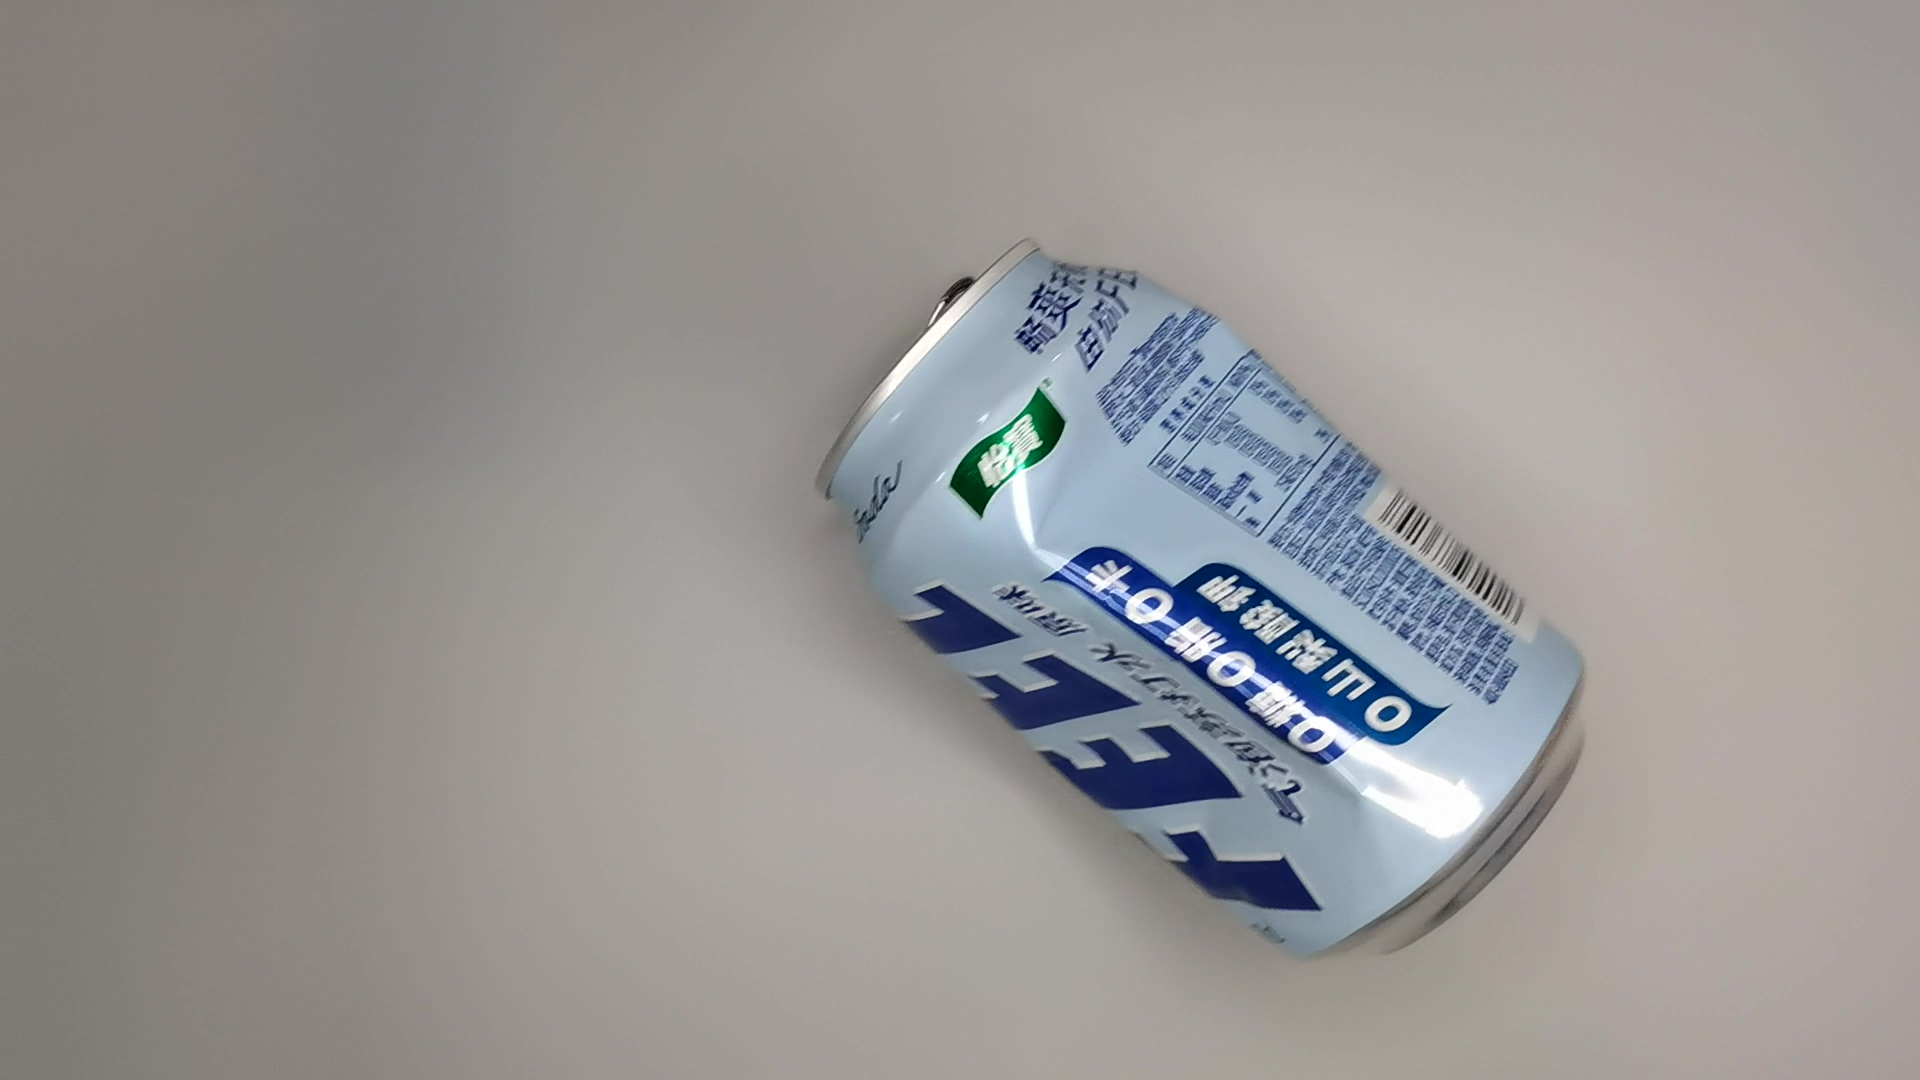can: (815, 229, 1588, 968)
